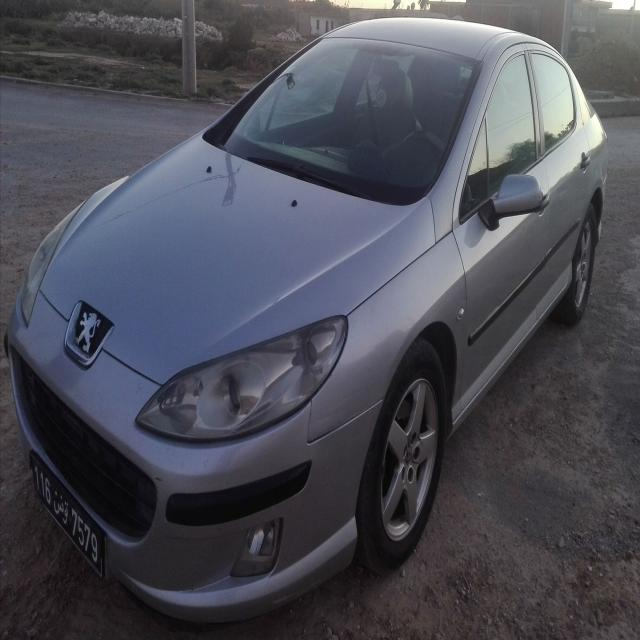LP: (28, 454, 104, 578)
